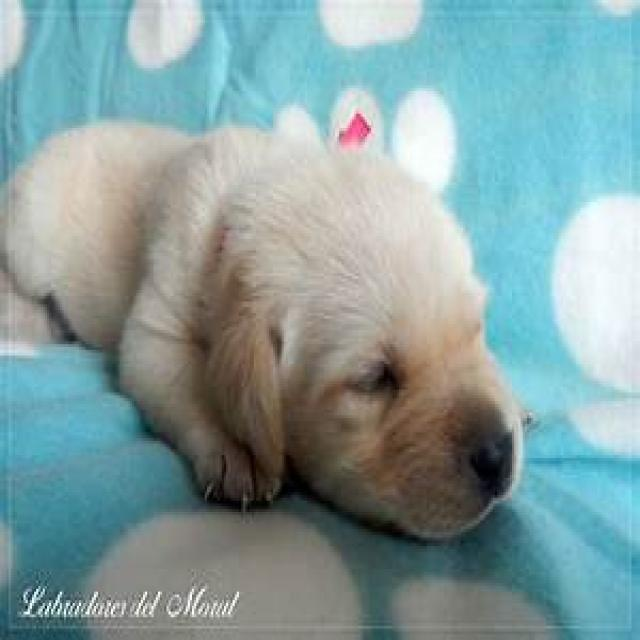dog: (6, 123, 522, 538)
